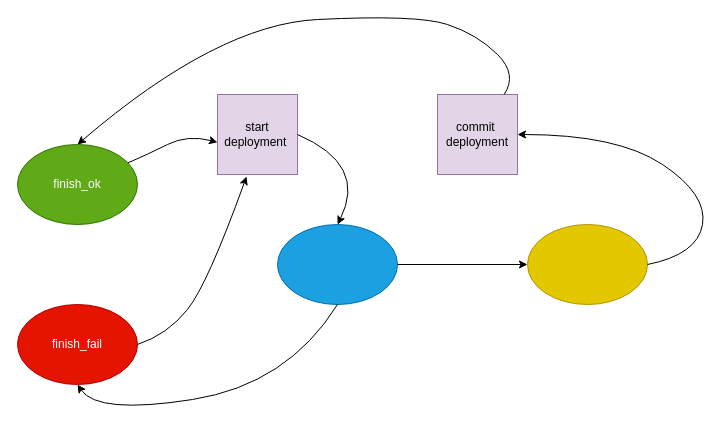
Some shapes in this 721 by 423 pixel diagram are drawn without their labels. The box of each missing label's shape, as (x1, y1, x2, y2) in pixels:
finishing: (526, 224, 648, 304)
running: (276, 224, 398, 304)
